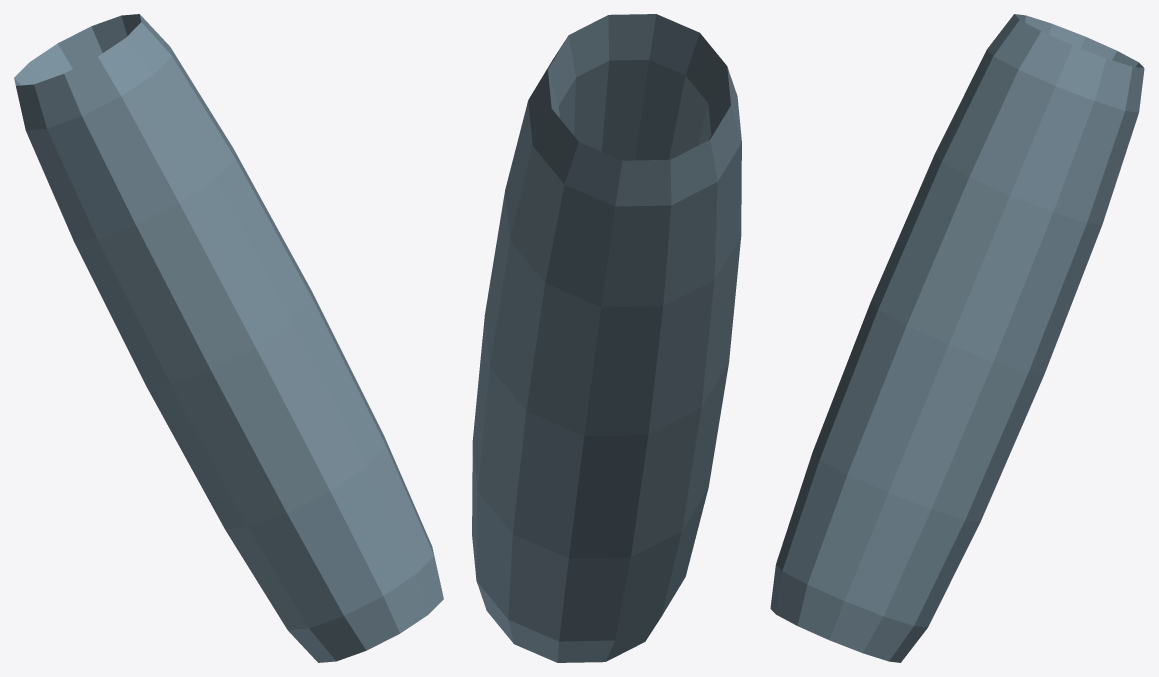
File: astronaut_spawn_group1572698854_lev4.glb
The picture shows the model from 3 angles, left to right: view 1: azimuth 30°, elevation 25°; view 2: azimuth 150°, elevation 25°; view 3: azimuth 270°, elevation 25°; orthographic projection. The views are drawn at different scales.
Visible parts, largest first — view 1: astronaut_spawn_group1572698854_lev4; view 2: astronaut_spawn_group1572698854_lev4; view 3: astronaut_spawn_group1572698854_lev4.
Part boxes in pixels (x1,y1,x2,y2): astronaut_spawn_group1572698854_lev4: (14, 14, 443, 662); astronaut_spawn_group1572698854_lev4: (472, 14, 741, 662); astronaut_spawn_group1572698854_lev4: (770, 14, 1144, 662).
Size of the model in its own units: 0.0935 by 0.1797 by 0.1065.
